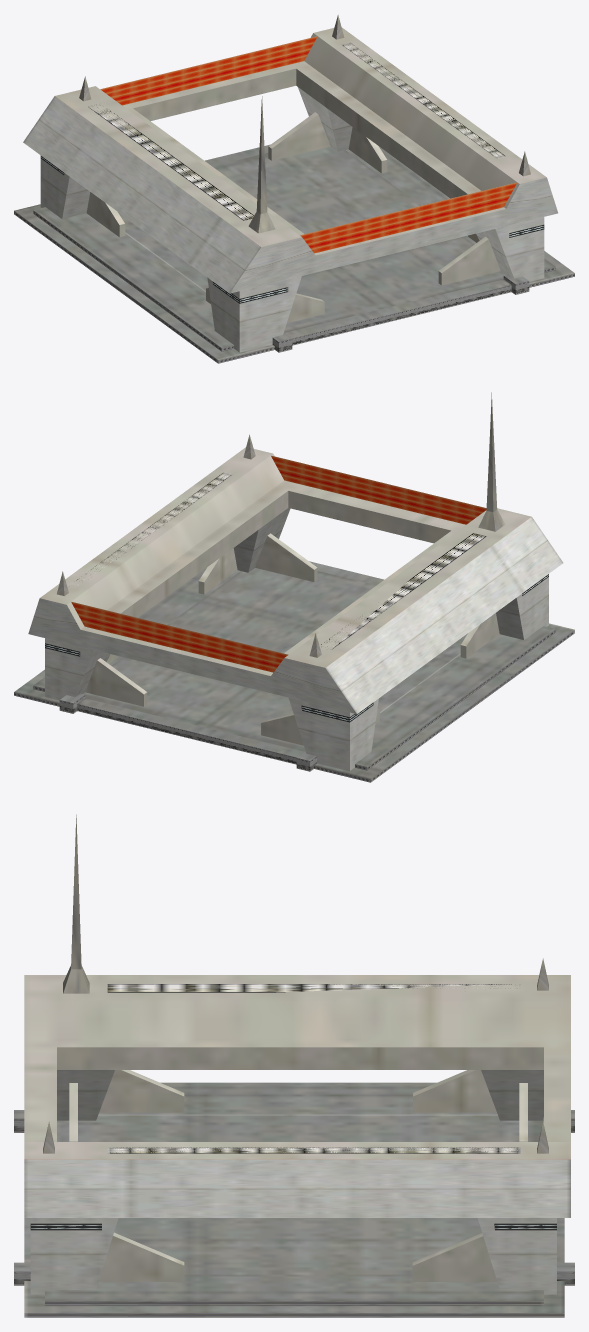
Rendered from mun_corl_shuttleport_s01_l3.fbx.
The picture shows the model from 3 angles, top to bottom: view 1: azimuth 30°, elevation 25°; view 2: azimuth 150°, elevation 25°; view 3: azimuth 270°, elevation 25°; orthographic projection. The views are drawn at different scales.
Parts seen in each view (by area): view 1: mesh_node; view 2: mesh_node; view 3: mesh_node.
Boxes of the visible parts, x1,y1,x2,y2 form: mesh_node: (14,14,574,363); mesh_node: (14,392,574,782); mesh_node: (14,814,574,1317).
Bounding box in the file's own units: 31.47 × 20.21 × 32.4.
2 materials, 2 textured.
